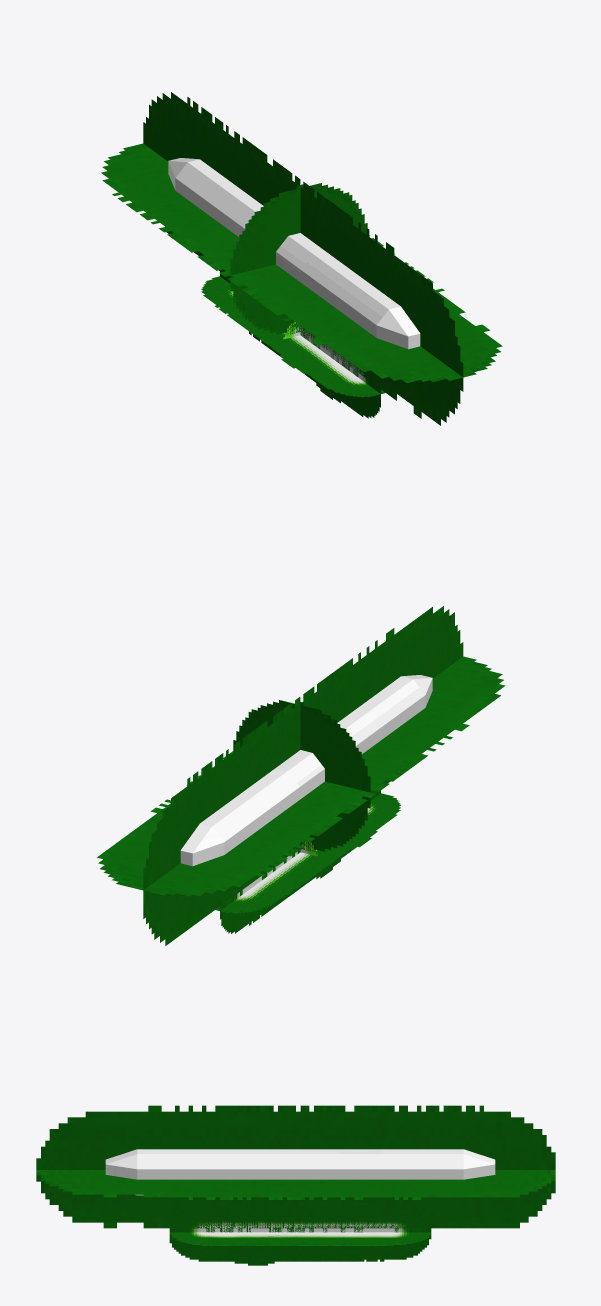
File: laser-bullet-green.gltf
3 renders of one model, top to bottom at view 1: azimuth 30°, elevation 25°; view 2: azimuth 150°, elevation 25°; view 3: azimuth 270°, elevation 25°, orthographic. The views are drawn at different scales.
Visible parts, largest first — view 1: plane (×5), beveled_cuboid; view 2: plane (×5), beveled_cuboid; view 3: plane (×4), beveled_cuboid.
Part boxes in pixels (<box>): plane (×5): <box>101,92,502,425</box>; beveled_cuboid: <box>168,158,420,349</box>; plane (×5): <box>97,606,505,945</box>; beveled_cuboid: <box>180,675,432,866</box>; plane (×4): <box>36,1105,555,1265</box>; beveled_cuboid: <box>105,1149,495,1195</box>.
Size of the model in its own units: 0.5625 by 0.5938 by 1.56.
Materials: 2 (2 with a texture image).
